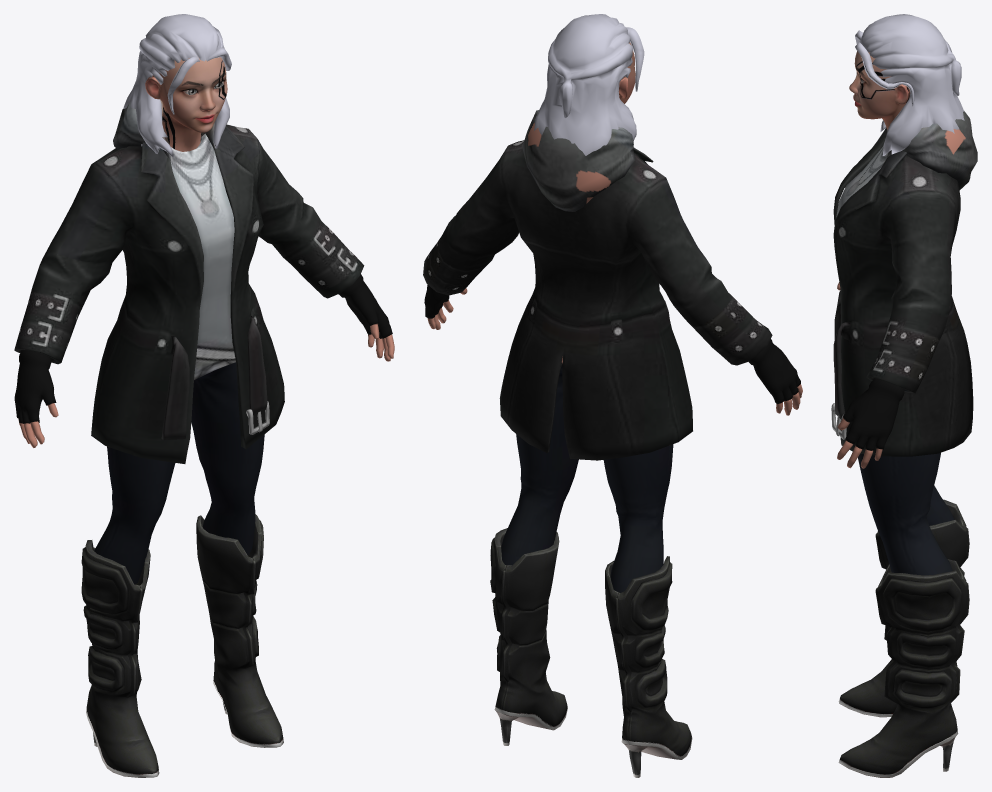
Rendered from Lucy.glb.
The picture shows the model from 3 angles, left to right: view 1: azimuth 30°, elevation 25°; view 2: azimuth 150°, elevation 25°; view 3: azimuth 270°, elevation 25°; orthographic projection.
Visible parts, largest first — view 1: Wolf3D_Outfit_Top.003, Wolf3D_Outfit_Footwear.003, Wolf3D_Outfit_Bottom.003, Wolf3D_Hair.003, Wolf3D_Head.003; view 2: Wolf3D_Outfit_Top.003, Wolf3D_Outfit_Footwear.003, Wolf3D_Outfit_Bottom.003, Wolf3D_Hair.003; view 3: Wolf3D_Outfit_Top.003, Wolf3D_Outfit_Footwear.003, Wolf3D_Hair.003, Wolf3D_Outfit_Bottom.003, Wolf3D_Head.003.
Boxes of the visible parts, x1=… form: Wolf3D_Outfit_Top.003: x1=14, y1=100, x2=394, y2=463; Wolf3D_Outfit_Footwear.003: x1=81, y1=514, x2=283, y2=777; Wolf3D_Outfit_Bottom.003: x1=94, y1=362, x2=264, y2=584; Wolf3D_Hair.003: x1=123, y1=14, x2=231, y2=157; Wolf3D_Head.003: x1=145, y1=57, x2=227, y2=151; Wolf3D_Outfit_Top.003: x1=423, y1=110, x2=802, y2=460; Wolf3D_Outfit_Footwear.003: x1=490, y1=528, x2=692, y2=777; Wolf3D_Outfit_Bottom.003: x1=501, y1=364, x2=673, y2=592; Wolf3D_Hair.003: x1=534, y1=14, x2=644, y2=155; Wolf3D_Outfit_Top.003: x1=831, y1=111, x2=977, y2=468; Wolf3D_Outfit_Footwear.003: x1=838, y1=499, x2=969, y2=777; Wolf3D_Hair.003: x1=855, y1=14, x2=964, y2=155; Wolf3D_Outfit_Bottom.003: x1=858, y1=453, x2=954, y2=575; Wolf3D_Head.003: x1=849, y1=51, x2=910, y2=129.
Size of the model in its own units: 0.9334 by 1.76 by 0.3243.
8 materials, 8 textured.
